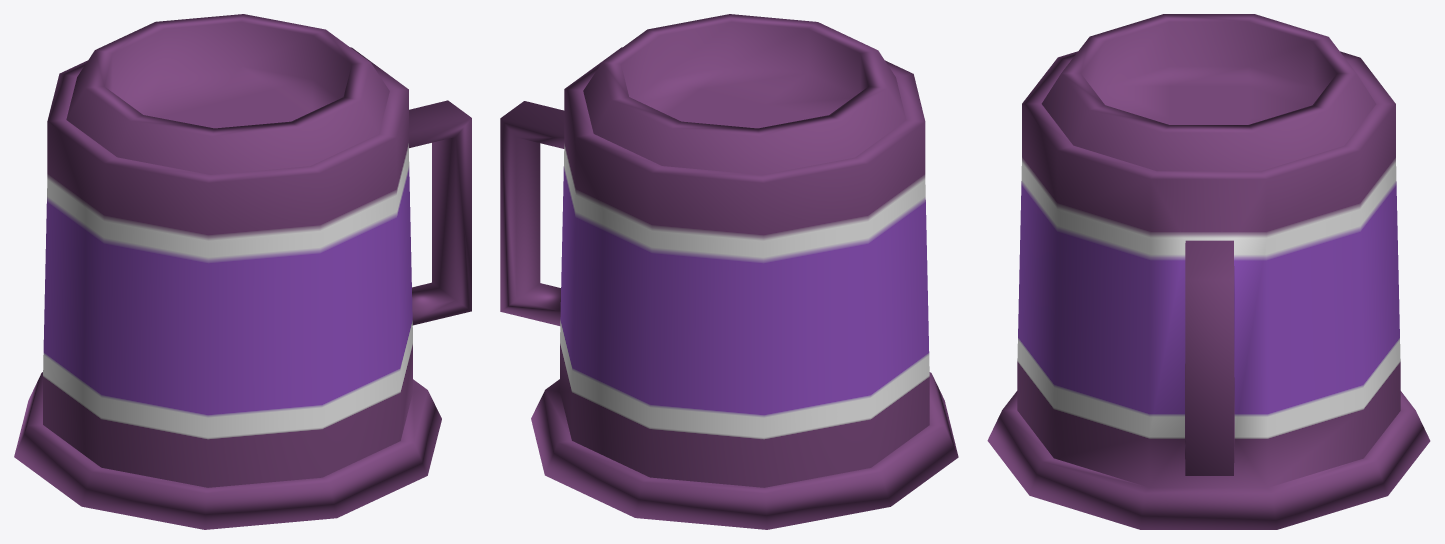
The model's file is PurpleMug.obj.
The picture shows the model from 3 angles, left to right: view 1: azimuth 30°, elevation 25°; view 2: azimuth 150°, elevation 25°; view 3: azimuth 270°, elevation 25°; orthographic projection.
Parts seen in each view (by area): view 1: polySurface2; view 2: polySurface2; view 3: polySurface2.
Boxes of the visible parts, x1,y1,x2,y2 form: polySurface2: (14, 14, 471, 529); polySurface2: (500, 14, 958, 529); polySurface2: (987, 14, 1430, 529).
Bounding box in the file's own units: 2.44 × 2.05 × 2.24.
